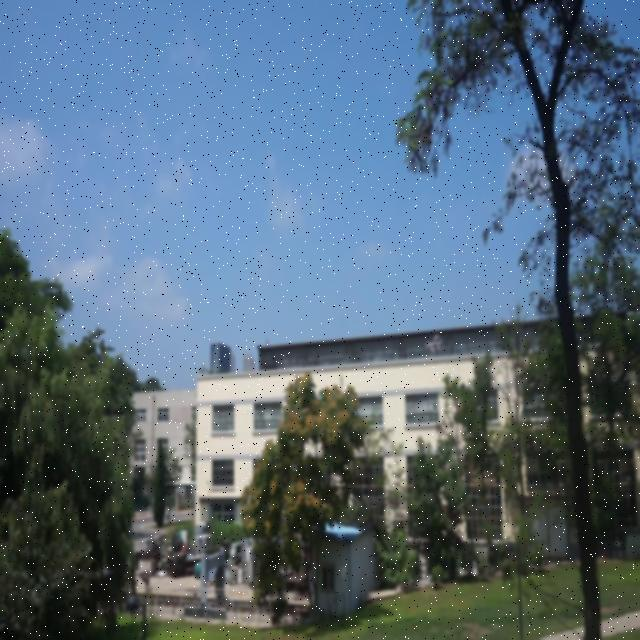UAV: (425, 334, 441, 352)
